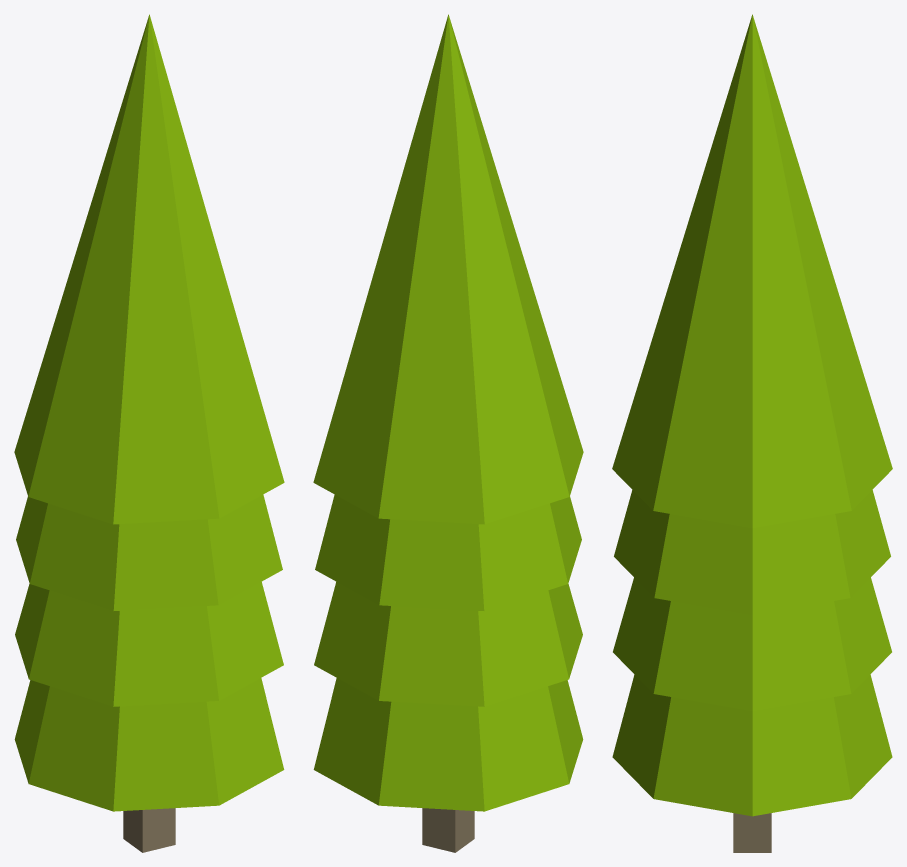
Rendered from pine_1.fbx.
3 views of the same model, side by side, from view 1: azimuth 30°, elevation 25°; view 2: azimuth 150°, elevation 25°; view 3: azimuth 270°, elevation 25° (orthographic).
Parts seen in each view (by area): view 1: pine_1; view 2: pine_1; view 3: pine_1.
Part boxes in pixels (left/top/right/bottom): pine_1: left=14, top=14, right=284, bottom=852; pine_1: left=313, top=14, right=583, bottom=852; pine_1: left=612, top=14, right=892, bottom=852.
Size of the model in its own units: 96.6 by 315 by 96.6.
